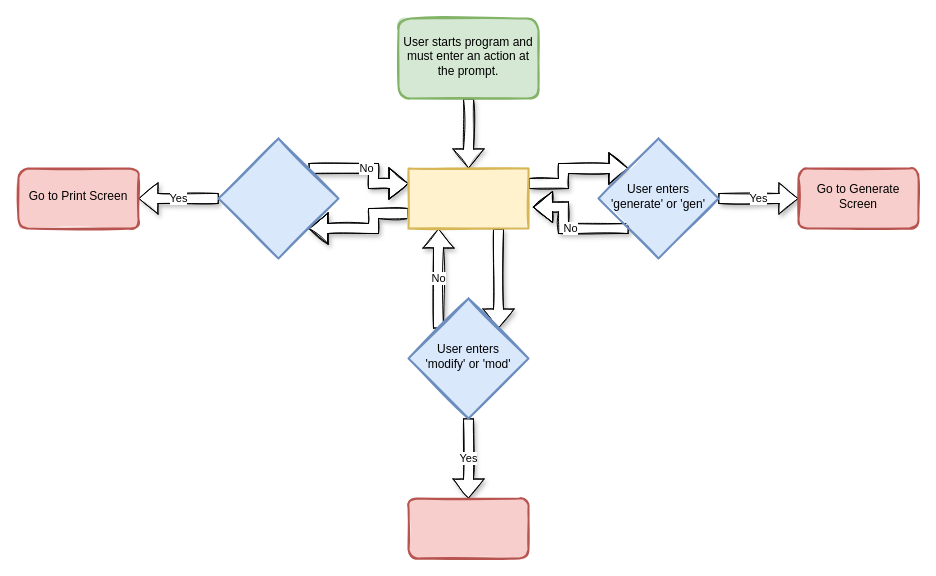
Some shapes in this 936 by 576 pixel diagram are drawn without their labels. Here are the shapes that lost their labels. From the top down, the centre of each, then its label:
At (278,198): "User enters 'print'".
At (468,198): "User is presented with instructions and must enter command.".
At (468,528): "Go to Settings Screen".
